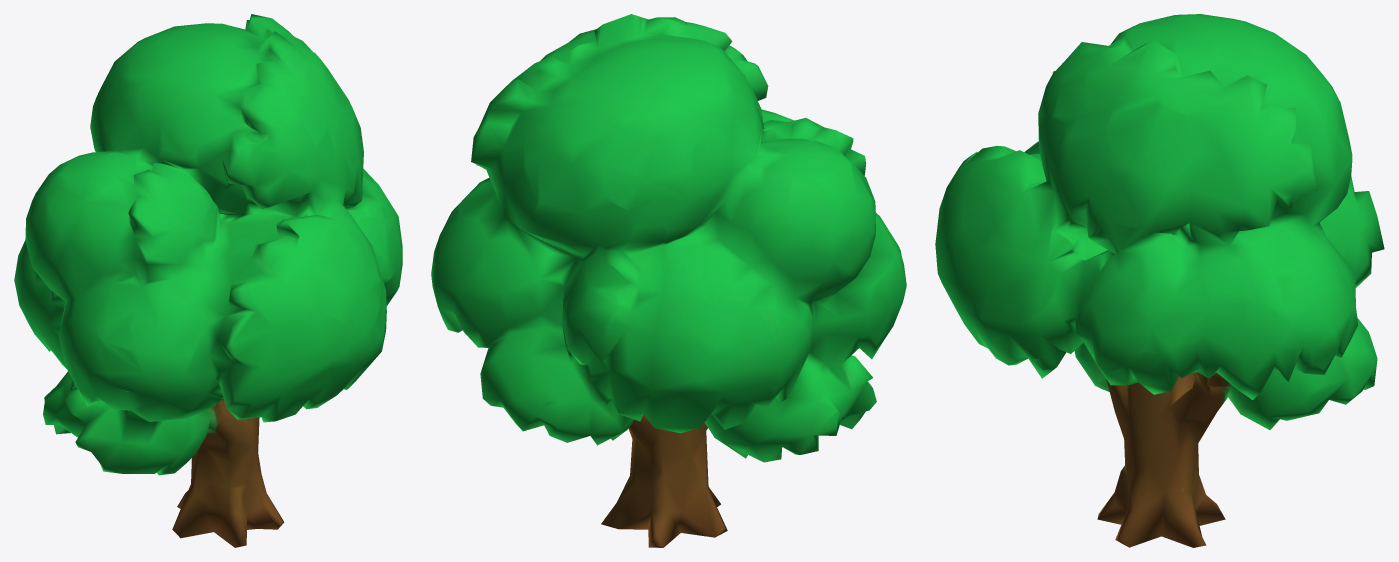
File: tree-01.glb
3 renders of one model, left to right at view 1: azimuth 30°, elevation 25°; view 2: azimuth 150°, elevation 25°; view 3: azimuth 270°, elevation 25°, orthographic. The views are drawn at different scales.
Parts seen in each view (by area): view 1: tripo_node_3c5b2b95-9320-4bc1-a0a4-db283eaedf31; view 2: tripo_node_3c5b2b95-9320-4bc1-a0a4-db283eaedf31; view 3: tripo_node_3c5b2b95-9320-4bc1-a0a4-db283eaedf31.
Part boxes in pixels (x1,y1,x2,y2): tripo_node_3c5b2b95-9320-4bc1-a0a4-db283eaedf31: (14,14,402,547); tripo_node_3c5b2b95-9320-4bc1-a0a4-db283eaedf31: (431,14,906,547); tripo_node_3c5b2b95-9320-4bc1-a0a4-db283eaedf31: (935,14,1384,547).
Bounding box in the file's own units: 0.8003 × 1 × 0.8051.
1 material, 1 textured.
